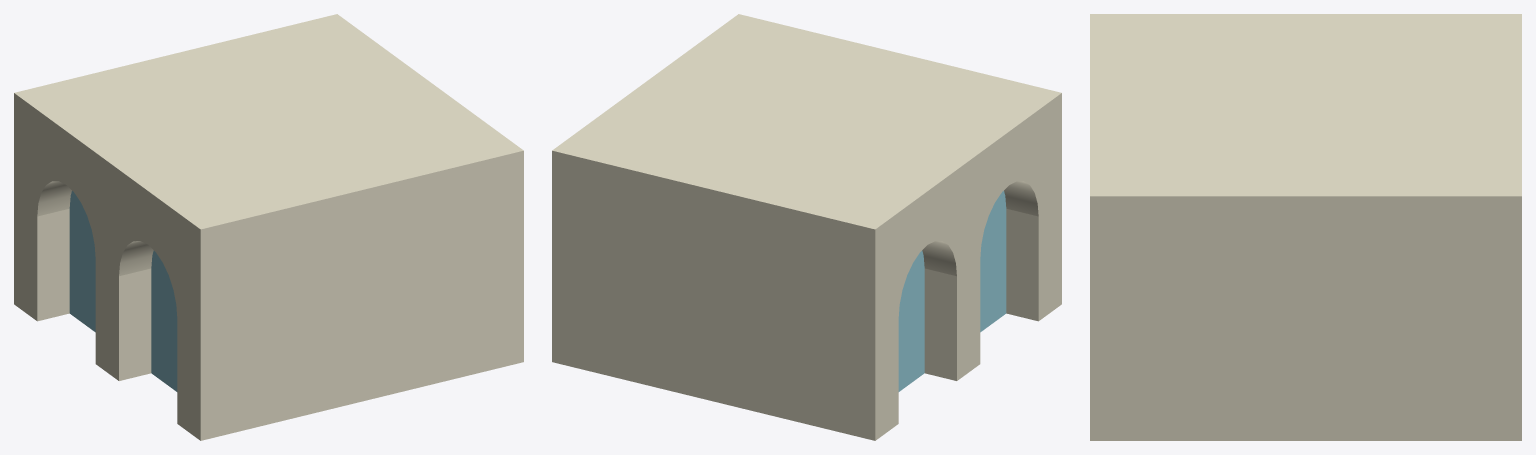
Rendered from floor1.obj.
3 renders of one model, left to right at view 1: azimuth 30°, elevation 25°; view 2: azimuth 150°, elevation 25°; view 3: azimuth 270°, elevation 25°, orthographic. The views are drawn at different scales.
Visible parts, largest first — view 1: floor1; view 2: floor1; view 3: floor1.
Boxes of the visible parts, x1,y1,x2,y2 form: floor1: (14,14,523,440); floor1: (552,14,1061,440); floor1: (1090,14,1521,440).
Bounding box in the file's own units: 1 × 0.625 × 1.
